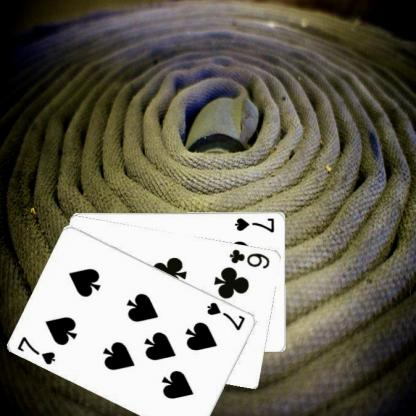6C: (227, 245, 272, 270)
7S: (15, 333, 57, 366), (204, 300, 247, 332), (233, 215, 276, 233)
